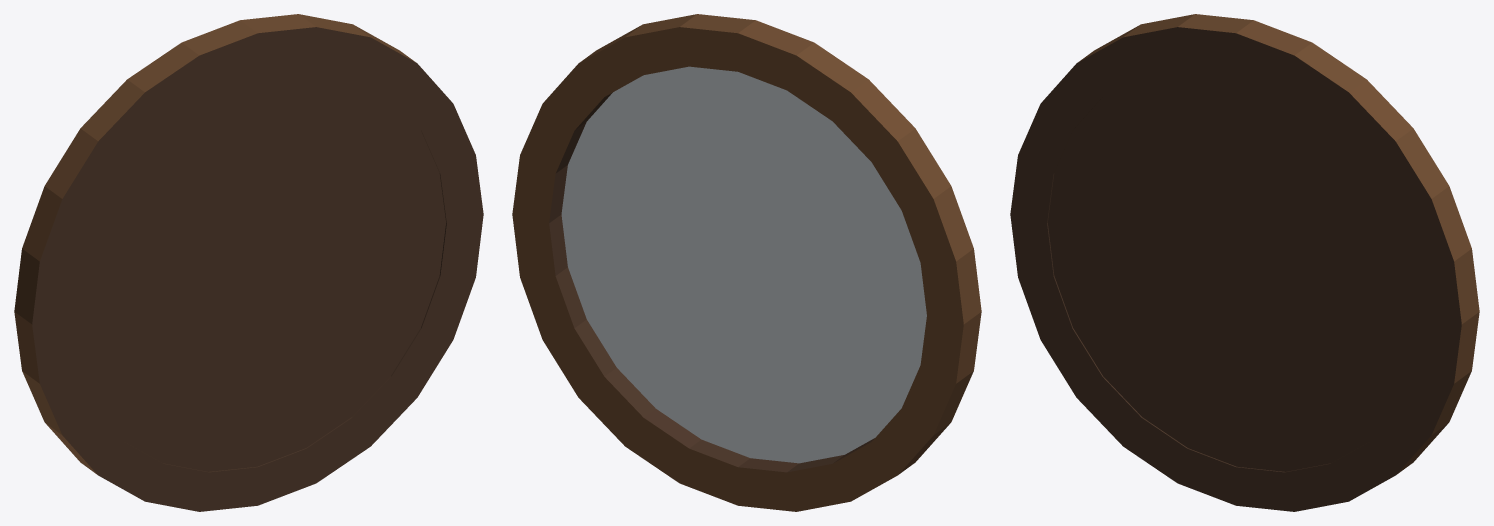
File: FN_Mirror_Wall.glb
3 views of the same model, side by side, from view 1: azimuth 30°, elevation 25°; view 2: azimuth 150°, elevation 25°; view 3: azimuth 330°, elevation 25° (orthographic).
Visible parts, largest first — view 1: FN_Mirror_Wall; view 2: FN_Mirror_Wall; view 3: FN_Mirror_Wall.
Part boxes in pixels (<box>): FN_Mirror_Wall: <box>14,14,483,511</box>; FN_Mirror_Wall: <box>512,14,981,511</box>; FN_Mirror_Wall: <box>1010,14,1479,511</box>.
Size of the model in its own units: 0.76 by 0.76 by 0.052.
1 material, 1 textured.
